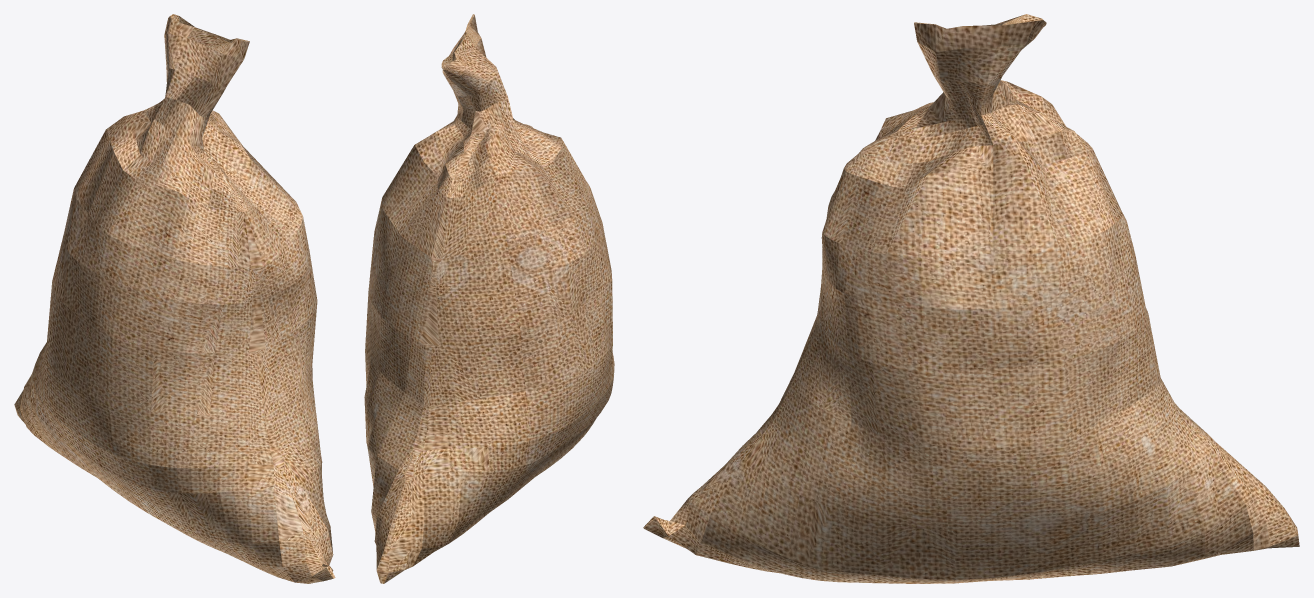
Rendered from Jute bag.fbx.
3 renders of one model, left to right at view 1: azimuth 30°, elevation 25°; view 2: azimuth 150°, elevation 25°; view 3: azimuth 270°, elevation 25°, orthographic. The views are drawn at different scales.
Visible parts, largest first — view 1: Jute_bag; view 2: Jute_bag; view 3: Jute_bag.
Boxes of the visible parts, <box> form: Jute_bag: <box>14,14,335,583</box>; Jute_bag: <box>364,14,614,583</box>; Jute_bag: <box>643,14,1299,583</box>.
Size of the model in its own units: 1.79 by 3.69 by 3.9.
Materials: 1 (1 with a texture image).
